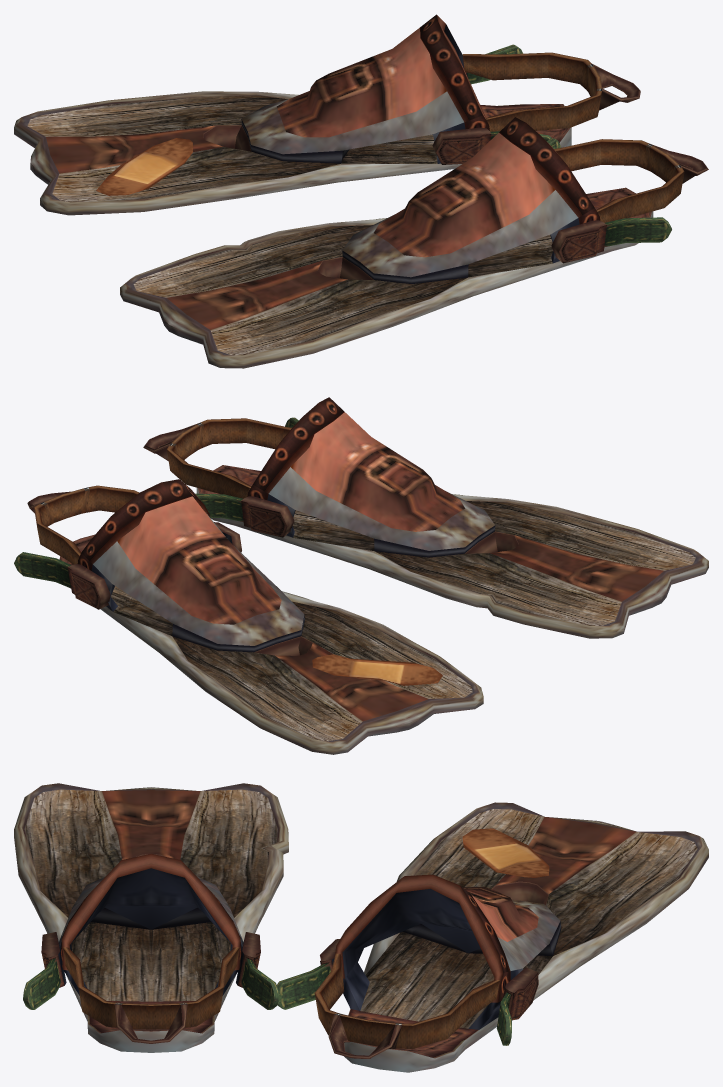
Rendered from ShoddyFlippers.fbx.
The picture shows the model from 3 angles, top to bottom: view 1: azimuth 30°, elevation 25°; view 2: azimuth 150°, elevation 25°; view 3: azimuth 270°, elevation 25°; orthographic projection. The views are drawn at different scales.
Parts seen in each view (by area): view 1: Plane.008; view 2: Plane.008; view 3: Plane.008.
Part boxes in pixels (x1,y1,x2,y2): Plane.008: [14, 14, 708, 368]; Plane.008: [14, 397, 708, 754]; Plane.008: [14, 783, 708, 1072].
Size of the model in its own units: 97.79 by 20.57 by 93.05.
4 materials, 4 textured.
